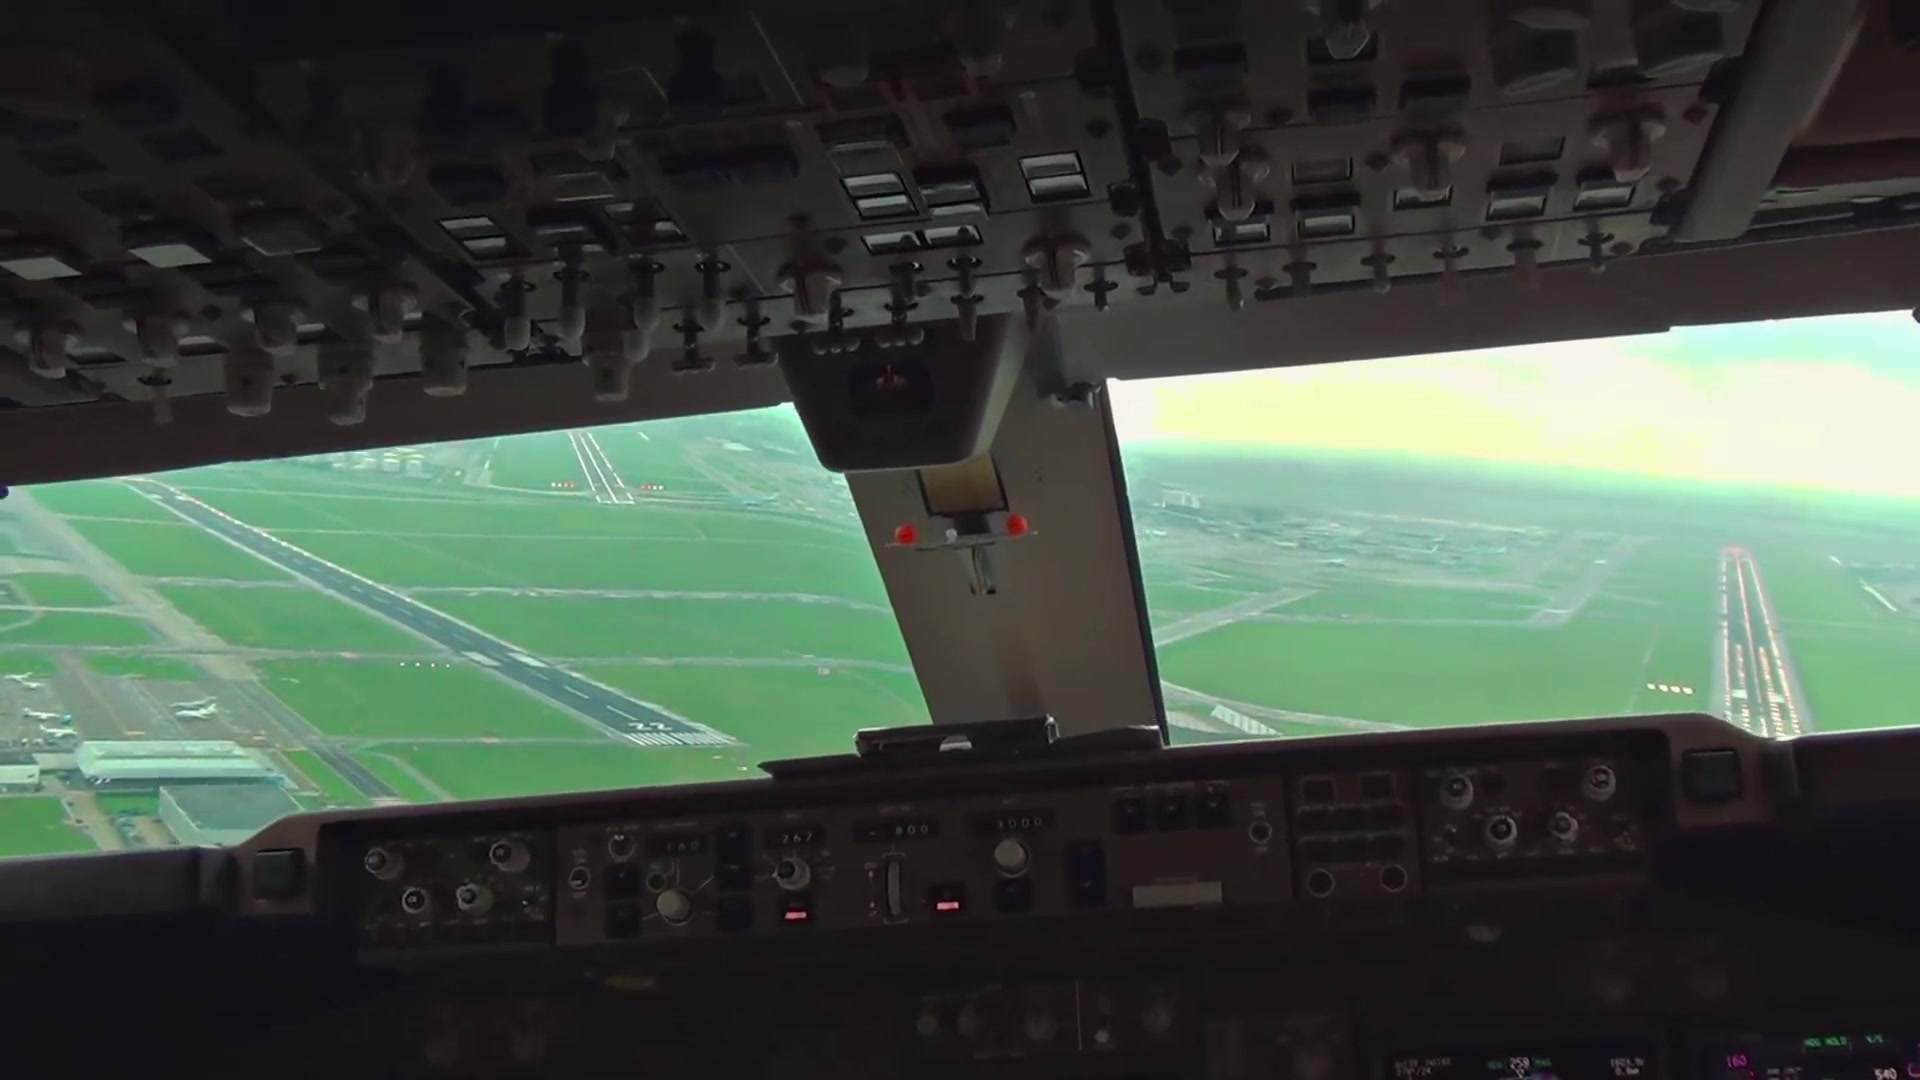entrance: (612, 725, 732, 748)
runway: (141, 472, 744, 760), (1712, 537, 1808, 749), (564, 429, 636, 512)
